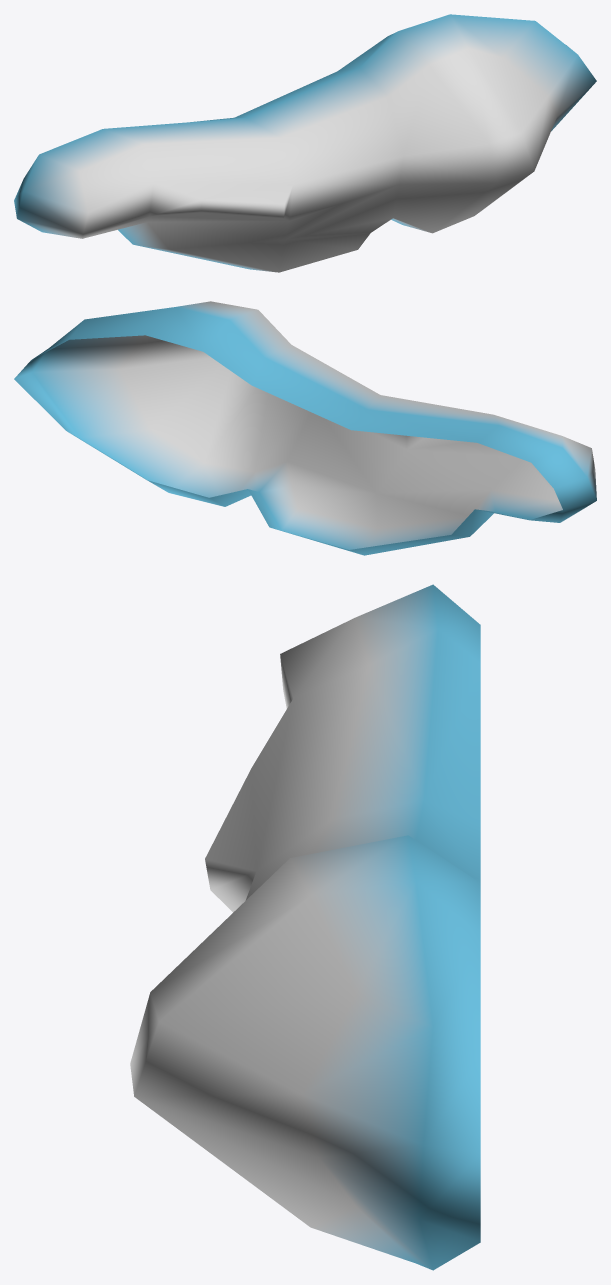
File: IceFlow_A.glb
The picture shows the model from 3 angles, top to bottom: view 1: azimuth 30°, elevation 25°; view 2: azimuth 150°, elevation 25°; view 3: azimuth 270°, elevation 25°; orthographic projection. The views are drawn at different scales.
Visible parts, largest first — view 1: MeshNode_0; view 2: MeshNode_0; view 3: MeshNode_0.
Part boxes in pixels (box(x1,y1,x2,y2)): MeshNode_0: box(14, 14, 596, 272); MeshNode_0: box(14, 301, 596, 555); MeshNode_0: box(130, 584, 480, 1270).
Size of the model in its own units: 82.72 by 28.09 by 22.24.
